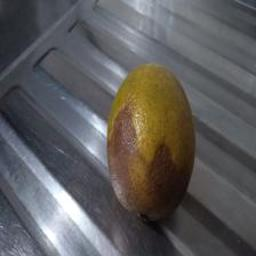Orange Semirotten: (96, 53, 206, 229)
